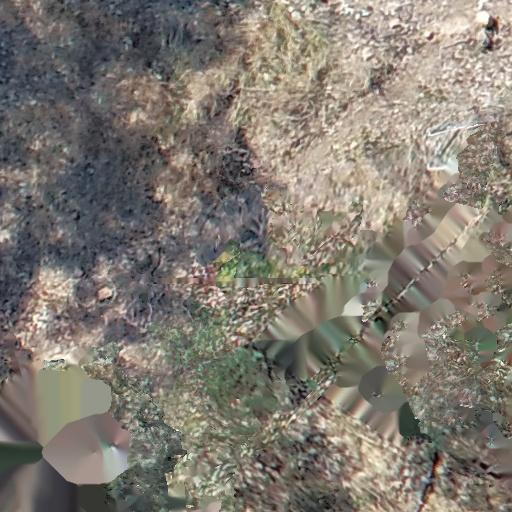stone: (475, 12, 496, 28), (478, 29, 494, 48), (98, 286, 114, 301), (421, 30, 437, 39), (389, 19, 401, 30)
